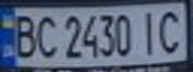0: (115, 10, 136, 57)
2: (60, 11, 84, 60)
3: (97, 11, 118, 58)
4: (78, 11, 100, 60)
B: (6, 11, 39, 60)
C: (154, 6, 190, 55), (30, 11, 60, 60)
I: (136, 7, 163, 56)
